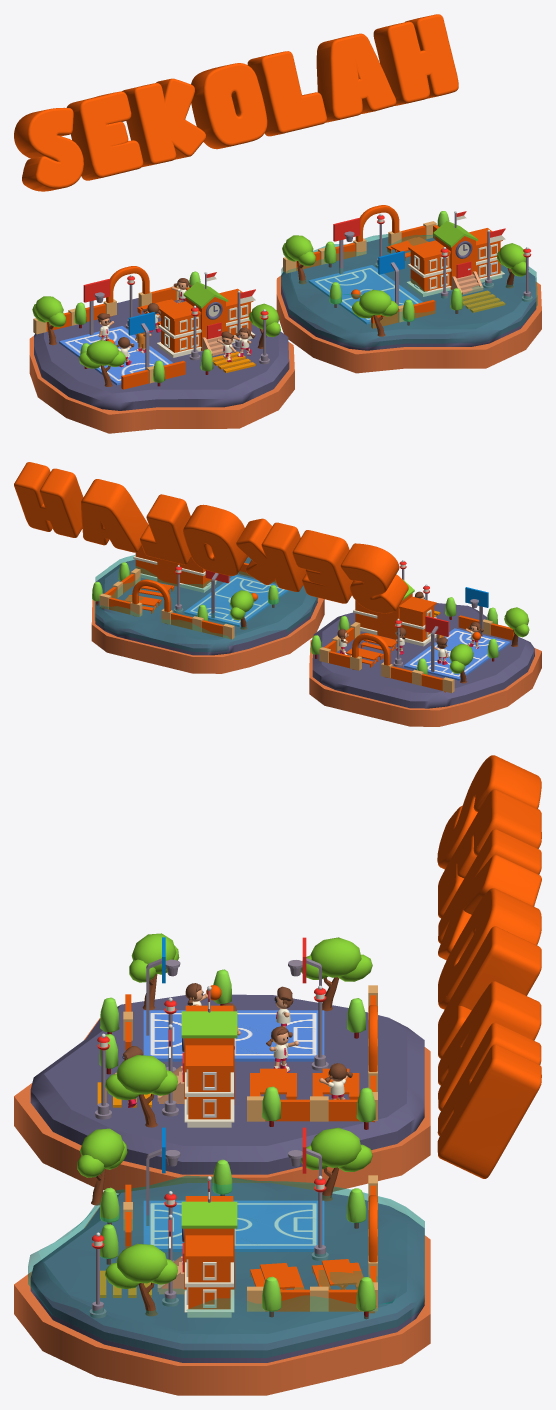
3 renders of one model, top to bottom at view 1: azimuth 30°, elevation 25°; view 2: azimuth 150°, elevation 25°; view 3: azimuth 270°, elevation 25°, orthographic. The views are drawn at different scales.
Parts seen in each view (by area): view 1: Text, Plane.022, Plane.015, Plane.063, Plane.027, Plane.016, Cube.182, Cube.054, Cube.002, Cube.025, Cube.189, Cube.188 (+14 smaller); view 2: Text, Plane.022, Plane.063, Plane.015, Plane.027, Plane.016, Cube.182, Cube.025, Cube.002, Cube.054, Cube.188, Cube.031 (+13 smaller); view 3: Plane.022, Text, Plane.015, Plane.063, Plane.016, Plane.027, Cube.182, Cube.025, Cube.002, Cube.054, Cube.040, Cube.039 (+8 smaller).
Part boxes in pixels (x1,y1,x2,y2): Text: (14,14,458,191); Plane.022: (281,234,537,347); Plane.015: (281,237,536,350); Plane.063: (34,298,289,410); Plane.027: (29,336,294,433); Plane.016: (276,275,541,373); Cube.182: (308,265,422,324); Cube.054: (408,228,502,291); Cube.002: (158,288,253,352); Cube.025: (59,326,172,385); Cube.189: (283,221,436,273); Cube.188: (296,225,425,270); Text: (14,462,408,613); Plane.022: (94,555,317,651); Plane.063: (312,603,534,708); Plane.015: (95,557,317,655); Plane.027: (309,640,541,726); Plane.016: (91,597,324,673); Cube.182: (184,575,289,626); Cube.025: (403,628,510,680); Cube.002: (355,596,436,641); Cube.054: (135,545,211,588); Cube.188: (109,597,223,637); Cube.031: (329,651,445,692); Plane.022: (28,1175,424,1357); Text: (437,755,541,1178); Plane.015: (30,1183,424,1362); Plane.063: (30,994,424,1174); Plane.016: (14,1206,430,1395); Plane.027: (14,1018,430,1193); Cube.182: (143,1200,324,1251); Cube.025: (143,1010,324,1061); Cube.002: (185,1005,233,1119); Cube.054: (185,1196,233,1309); Cube.040: (250,1259,363,1289); Cube.039: (250,1068,359,1099).
Size of the model in its own units: 0.683 by 0.2953 by 0.4197.
Materials: 28 (1 with a texture image).
